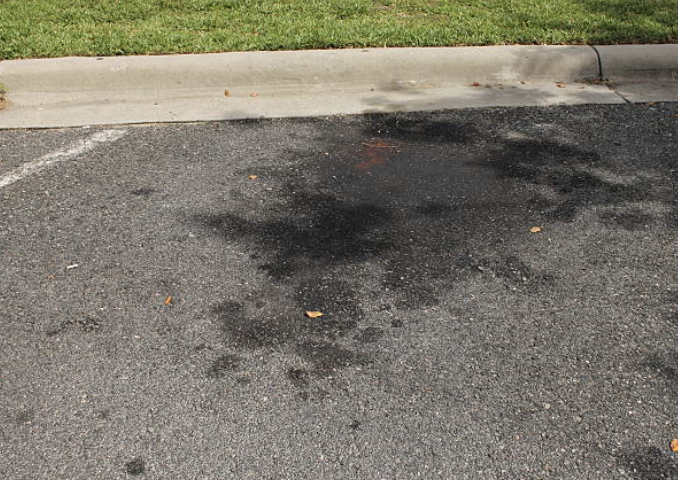oil: (96, 50, 339, 205), (305, 221, 339, 240)
